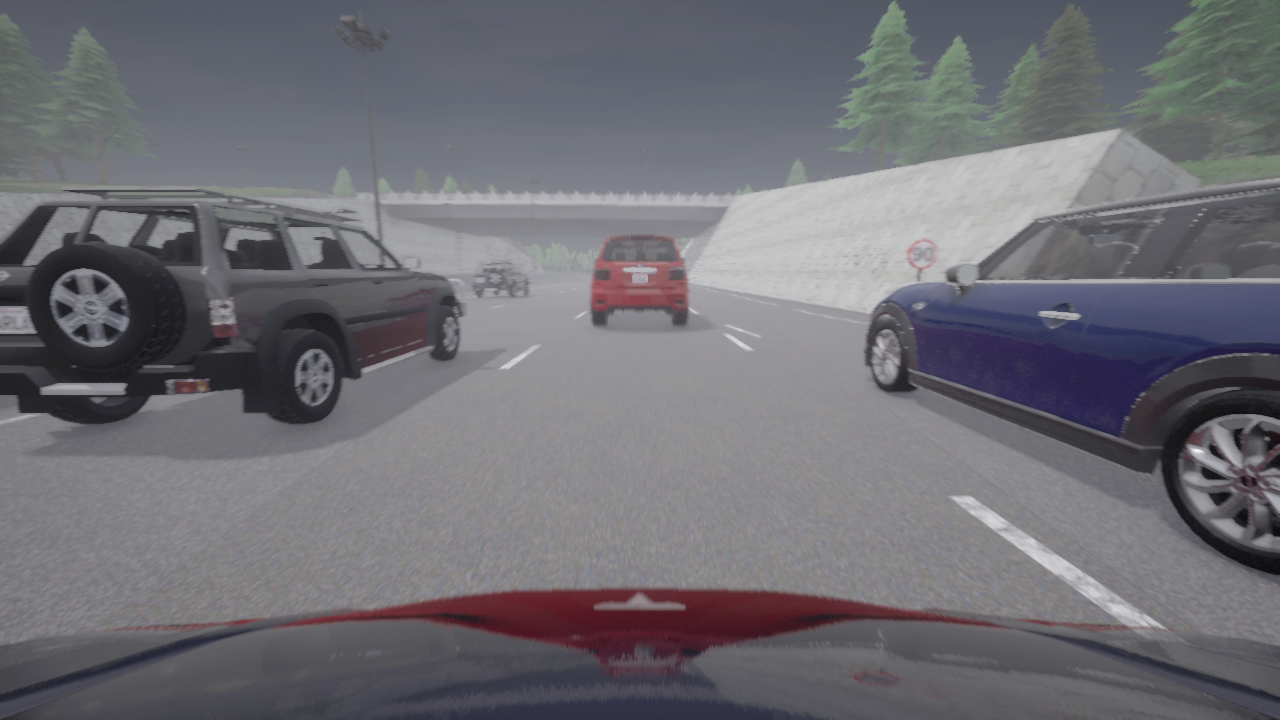cyclist: (0, 588, 1279, 719), (863, 179, 1279, 576), (0, 188, 467, 425), (591, 235, 688, 326), (472, 261, 530, 298)
